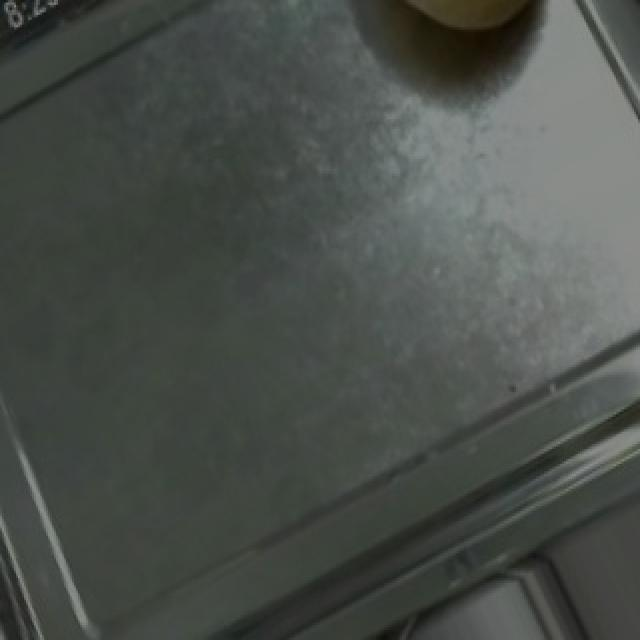Fruit: (352, 0, 578, 67)
